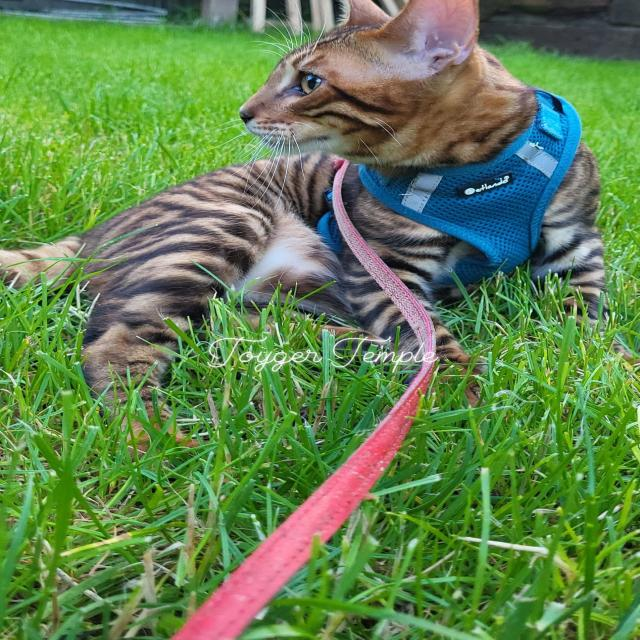Toyger: (0, 0, 616, 469)
